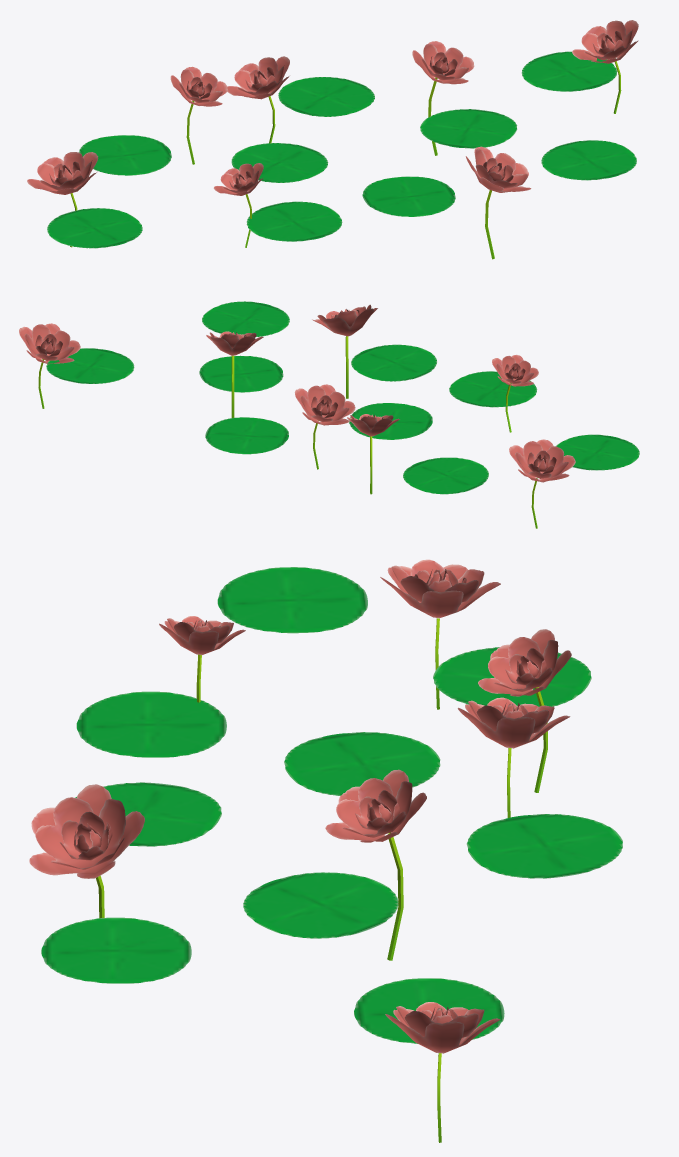
The model's file is lotus_3.fbx.
The picture shows the model from 3 angles, top to bottom: view 1: azimuth 30°, elevation 25°; view 2: azimuth 150°, elevation 25°; view 3: azimuth 270°, elevation 25°; orthographic projection. The views are drawn at different scales.
Parts seen in each view (by area): view 1: lotus_3; view 2: lotus_3; view 3: lotus_3.
Boxes of the visible parts, x1,y1,x2,y2 form: lotus_3: (27, 20, 638, 259); lotus_3: (19, 301, 639, 528); lotus_3: (29, 559, 622, 1142).
Size of the model in its own units: 382 by 79.01 by 205.
